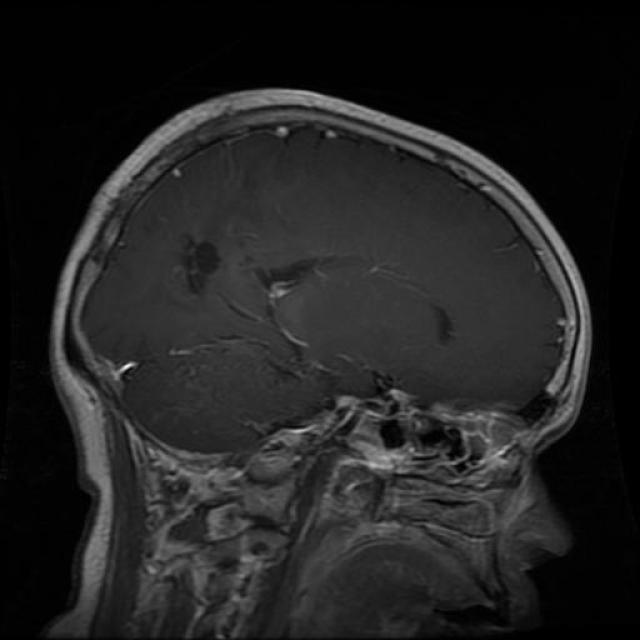glioma: (170, 230, 236, 300)
